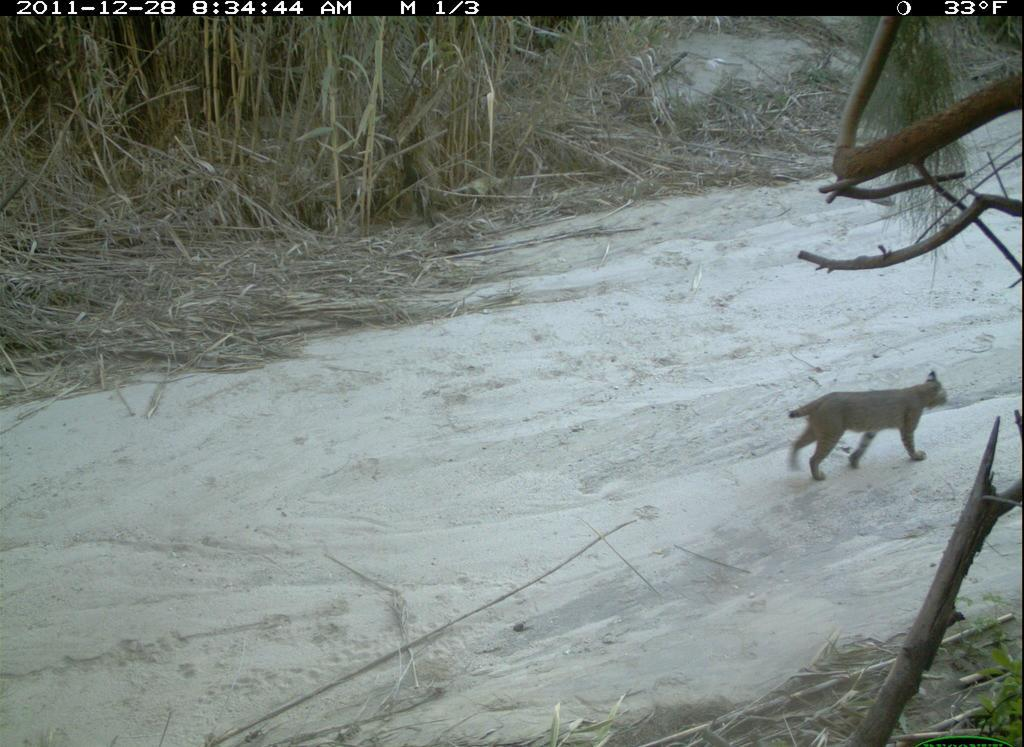bobcat: (780, 368, 959, 484)
